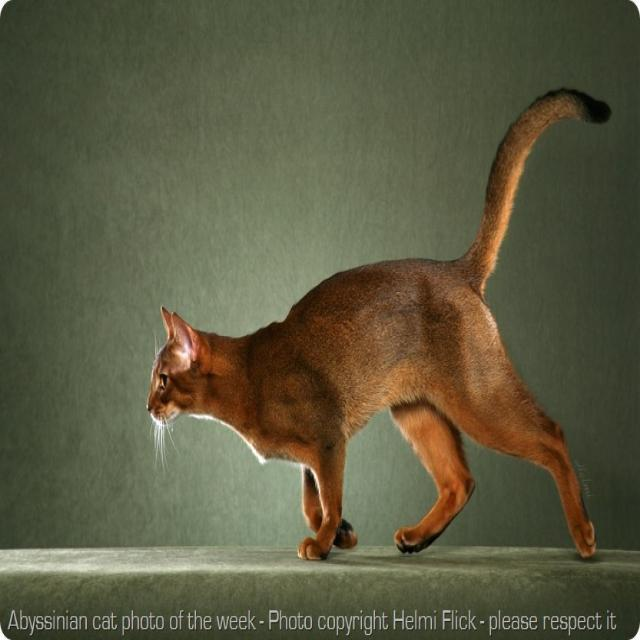Abyssinian: (143, 300, 601, 565)
